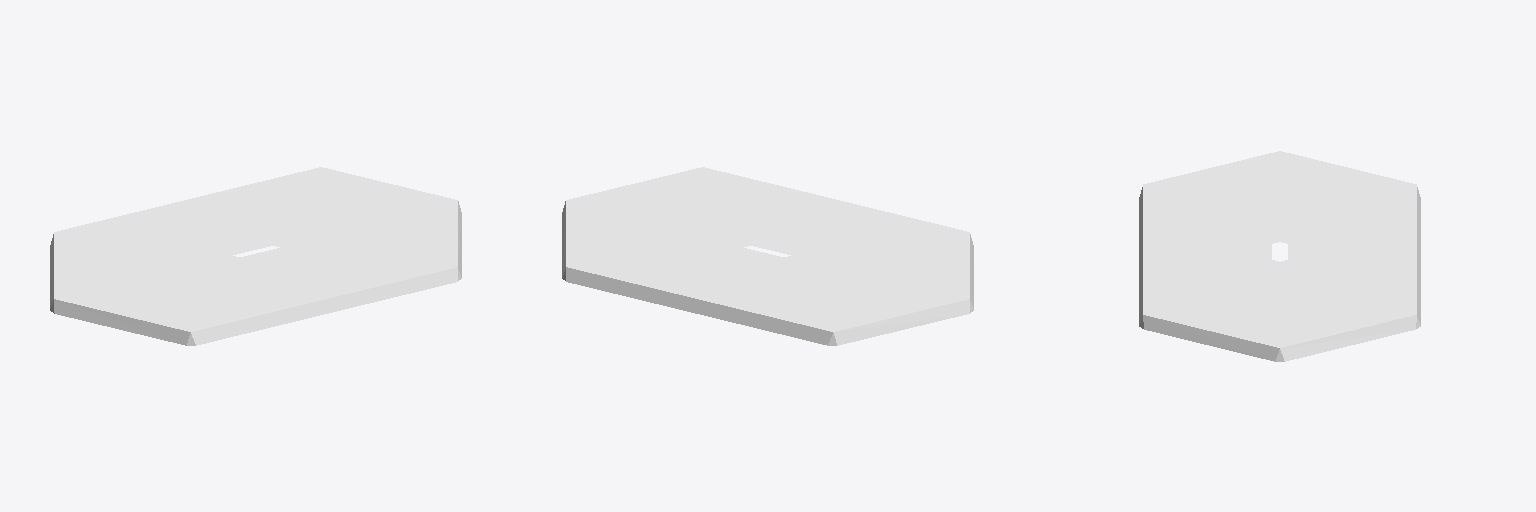
File: tablesmall_5.obj
3 views of the same model, side by side, from view 1: azimuth 30°, elevation 25°; view 2: azimuth 150°, elevation 25°; view 3: azimuth 270°, elevation 25° (orthographic).
Visible parts, largest first — view 1: Mesh71_Group78_Group73_Model; view 2: Mesh71_Group78_Group73_Model; view 3: Mesh71_Group78_Group73_Model.
Boxes of the visible parts, x1,y1,x2,y2 form: Mesh71_Group78_Group73_Model: [50, 167, 461, 345]; Mesh71_Group78_Group73_Model: [562, 167, 973, 345]; Mesh71_Group78_Group73_Model: [1139, 151, 1420, 361].
Bounding box in the file's own units: 49.9 × 1.5 × 29.89.